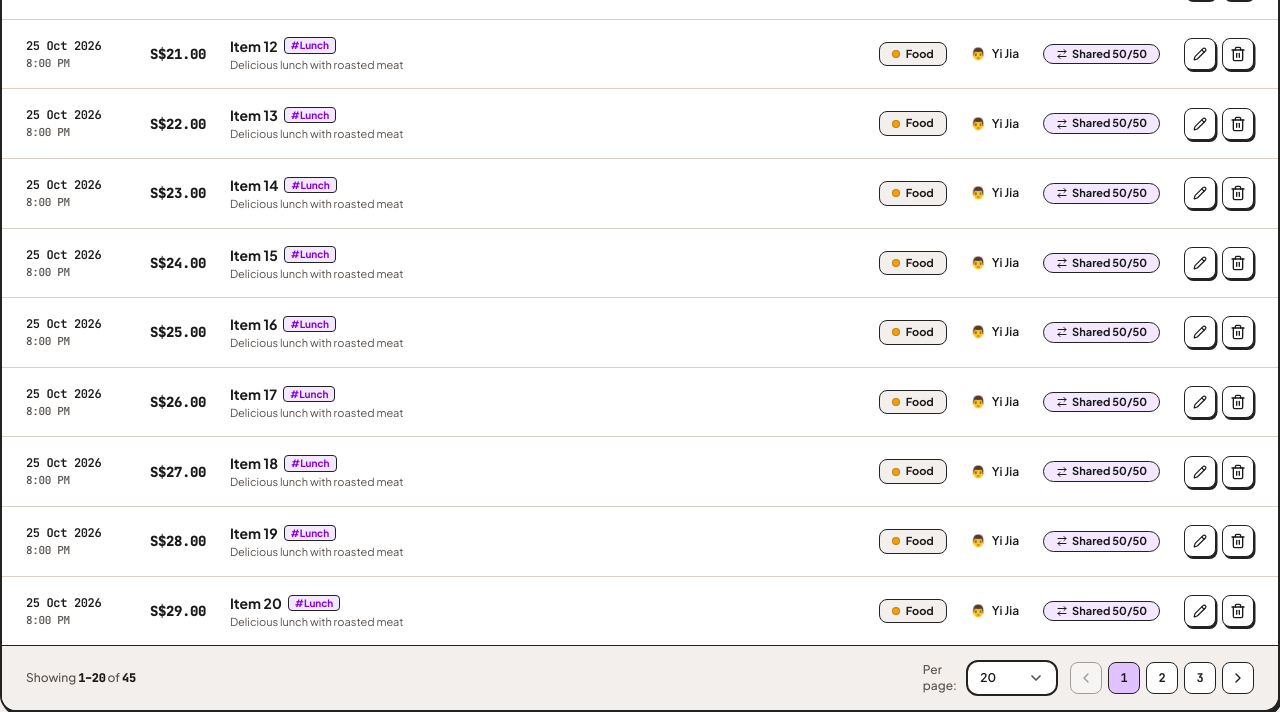
it: Ledger Power Tools, Fast Log & Bulk Log › ExpenseListTable Sorting & Pagination › supports pagination controls and page size selector
The image size is (1280, 712).
(page scrolled)
expect the text "1–20" is shown: met, box [78,670,106,686]
expect the text "45" is shown: met, box [122,670,136,686]
Note: Click Next page
Click the button named "Next page" at (1238, 678), box [1222,662,1254,694]
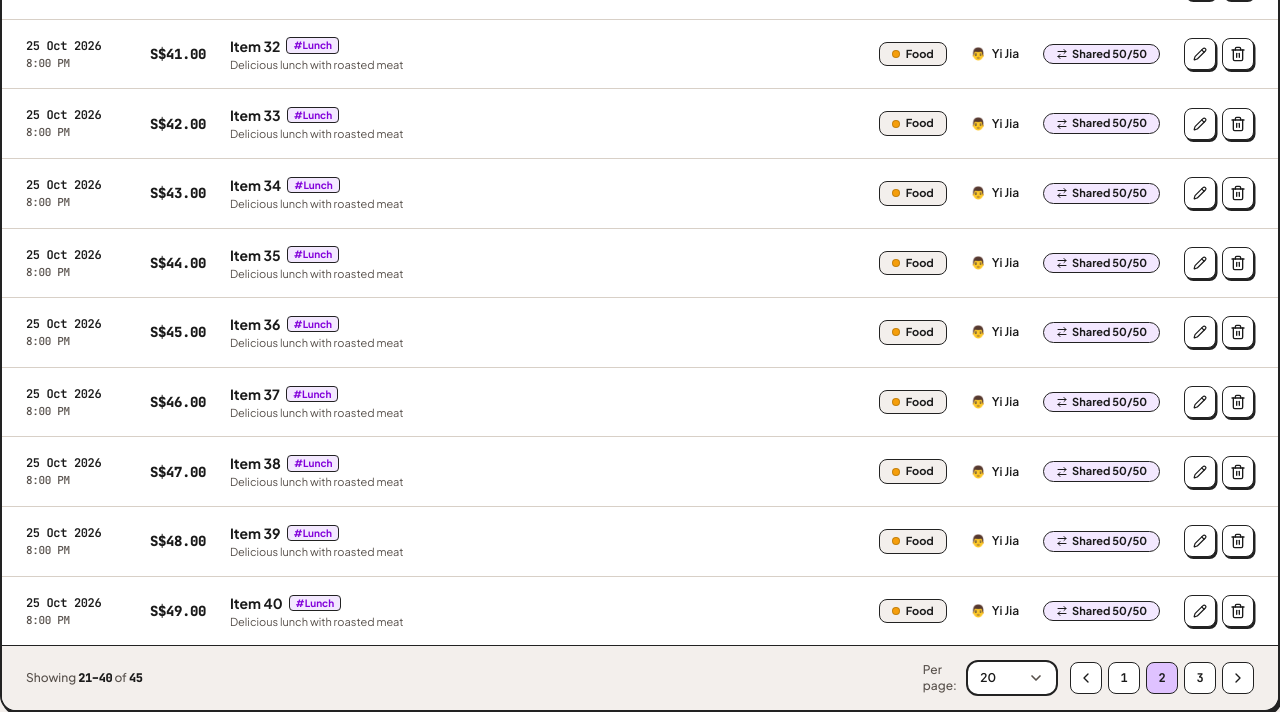
expect the text "21–40" is shown: met, box [78,670,112,686]
